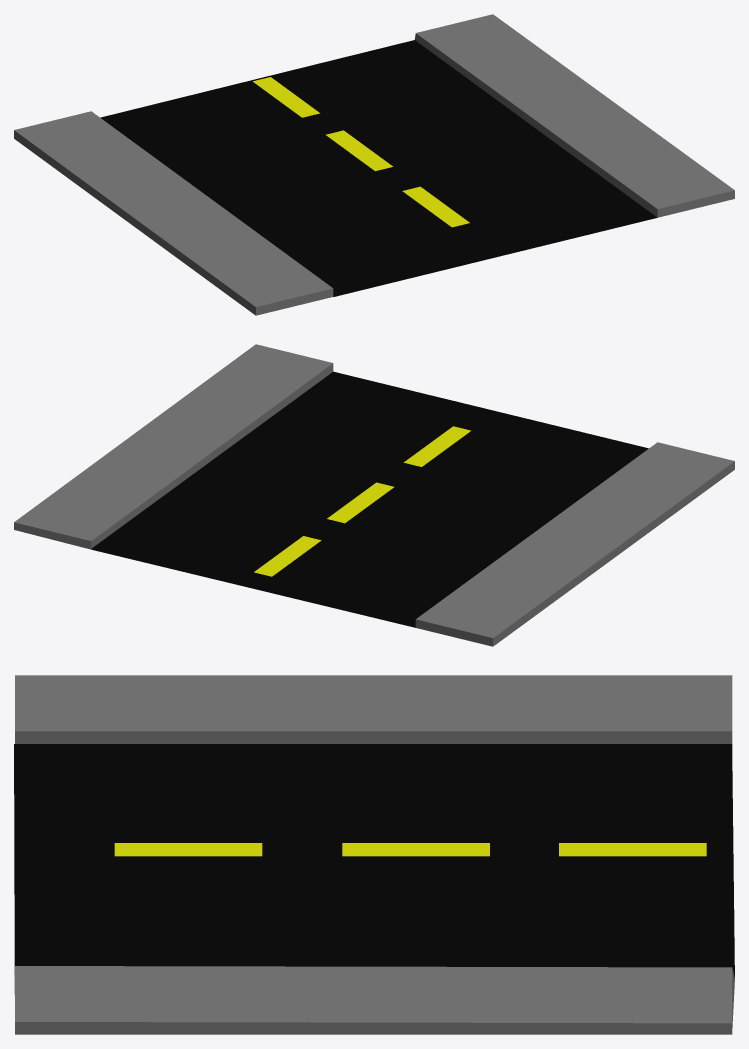
File: Cut Half Version 3.fbx
3 renders of one model, top to bottom at view 1: azimuth 30°, elevation 25°; view 2: azimuth 150°, elevation 25°; view 3: azimuth 270°, elevation 25°, orthographic. The views are drawn at different scales.
Parts seen in each view (by area): view 1: polySurface448; view 2: polySurface448; view 3: polySurface448.
Boxes of the visible parts, left/top/right/bottom form: polySurface448: left=14, top=14, right=734, bottom=315; polySurface448: left=14, top=344, right=734, bottom=646; polySurface448: left=14, top=675, right=734, bottom=1034.
Bounding box in the file's own units: 12.39 × 0.2121 × 10.89.
